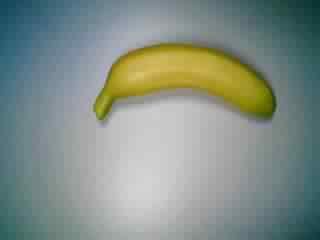banana: (90, 41, 281, 130)
